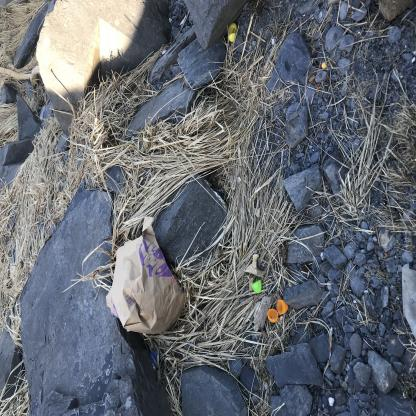trash: (58, 136, 152, 252), (70, 356, 90, 387), (90, 332, 105, 350)
